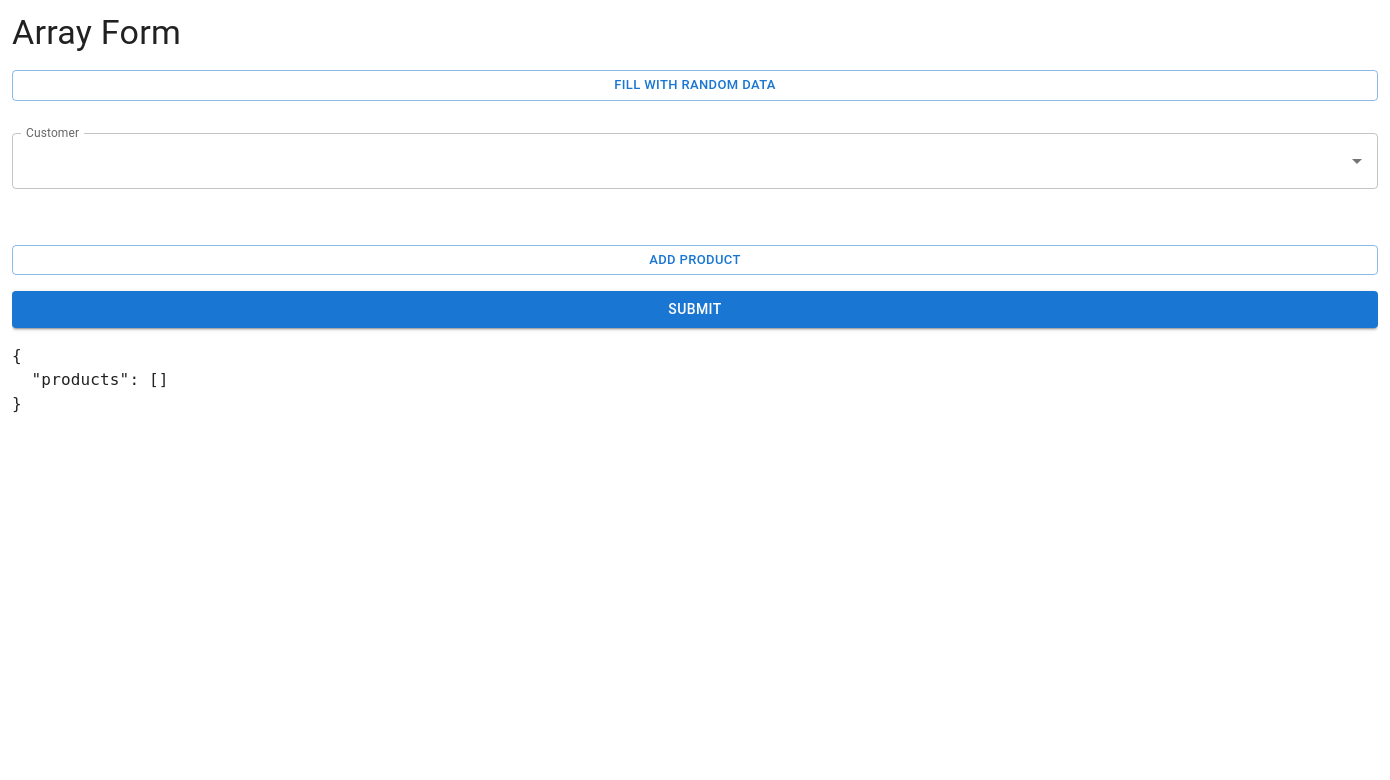
Test: Array form › add and remove product
This screenshot has width=1390, height=780.
# Add product
Click the button "Add Product" at (695, 260), box [12,245,1378,276]
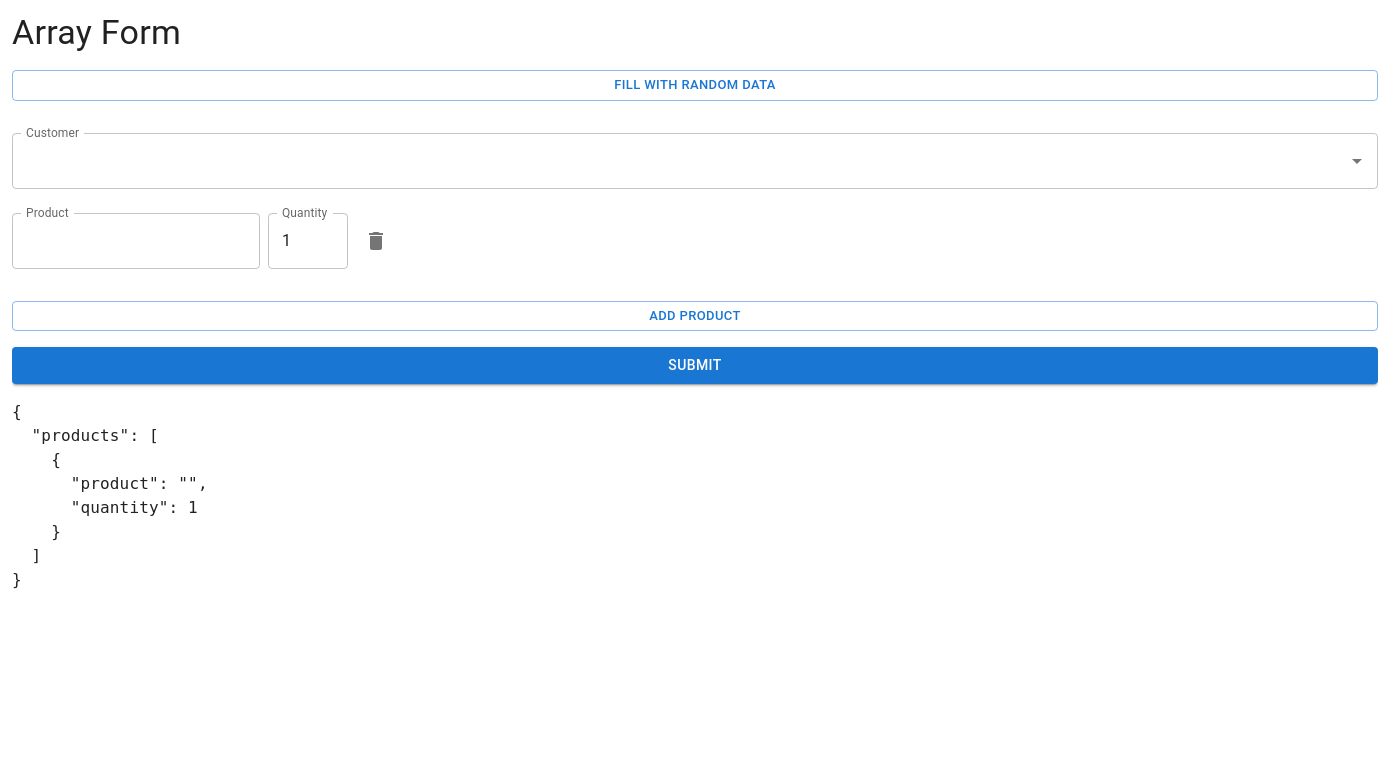
Now the list item is shown, box [12,205,396,269]
Now the field labelled "Product" is empty, box [12,213,246,269]
Now the number field labelled "Quantity" is shown
# Cannot set product quantity below 1
Click the number field labelled "Quantity" at (301, 241), box [268,213,334,269]
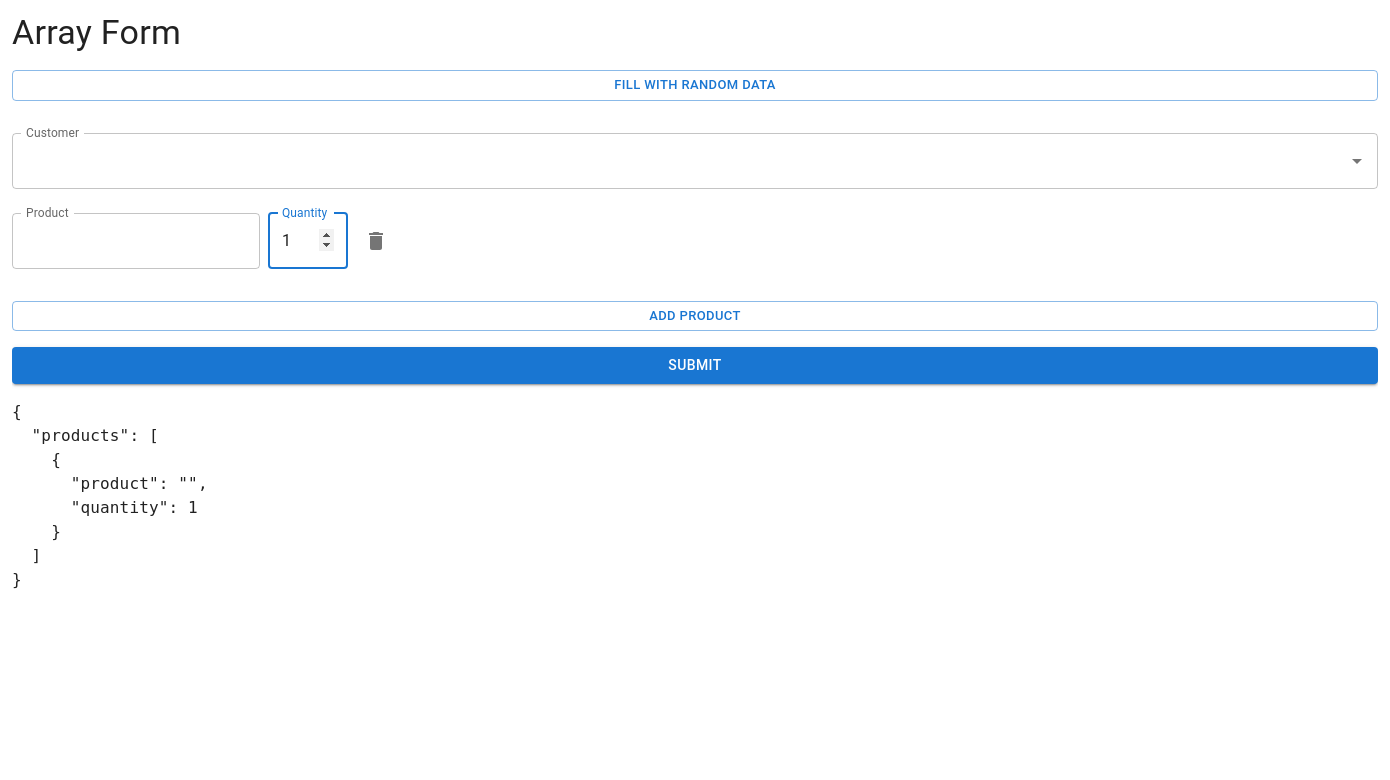
# Remove product
Click the button named "delete" at (376, 241), box [356,213,396,269]
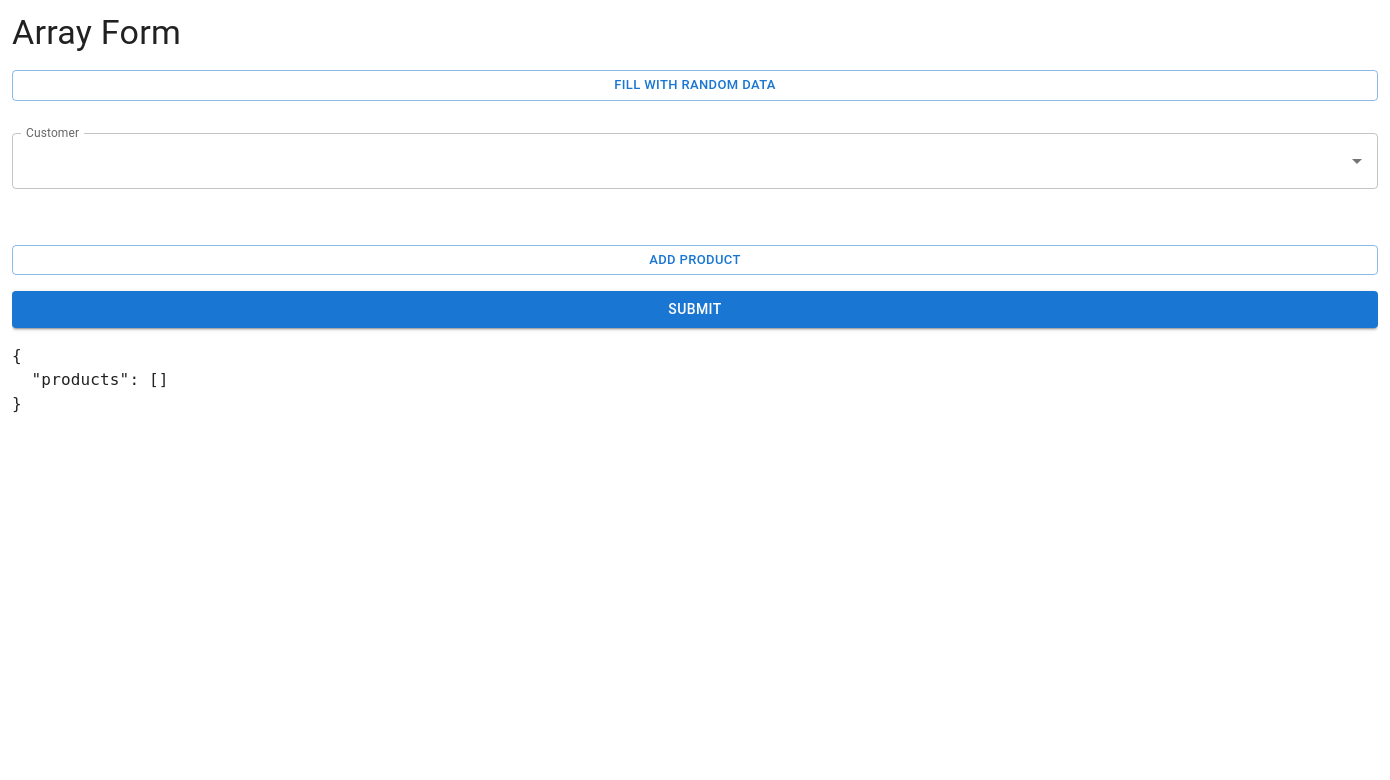
# Add two products
Click the button "Add Product" at (695, 260), box [12,245,1378,276]
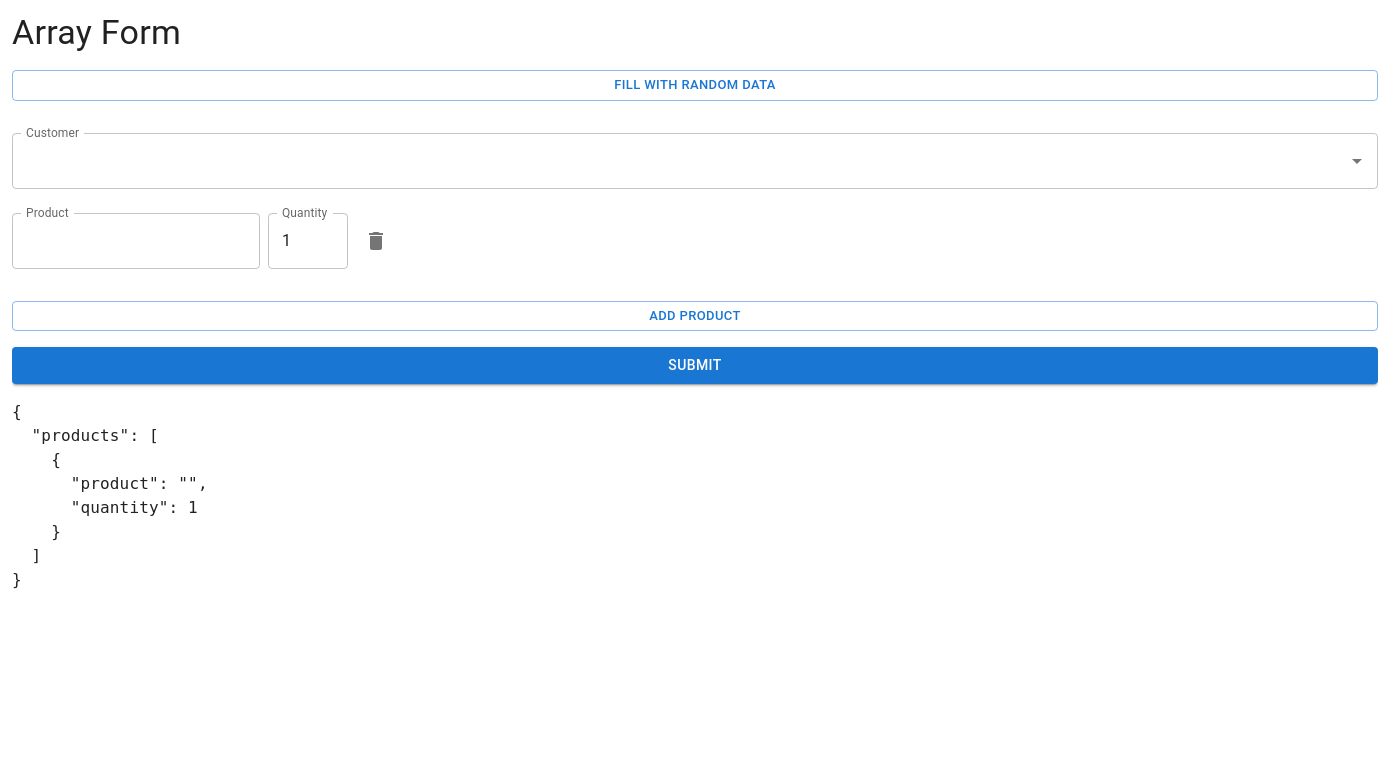
Click the button "Add Product" at (695, 316), box [12,301,1378,332]
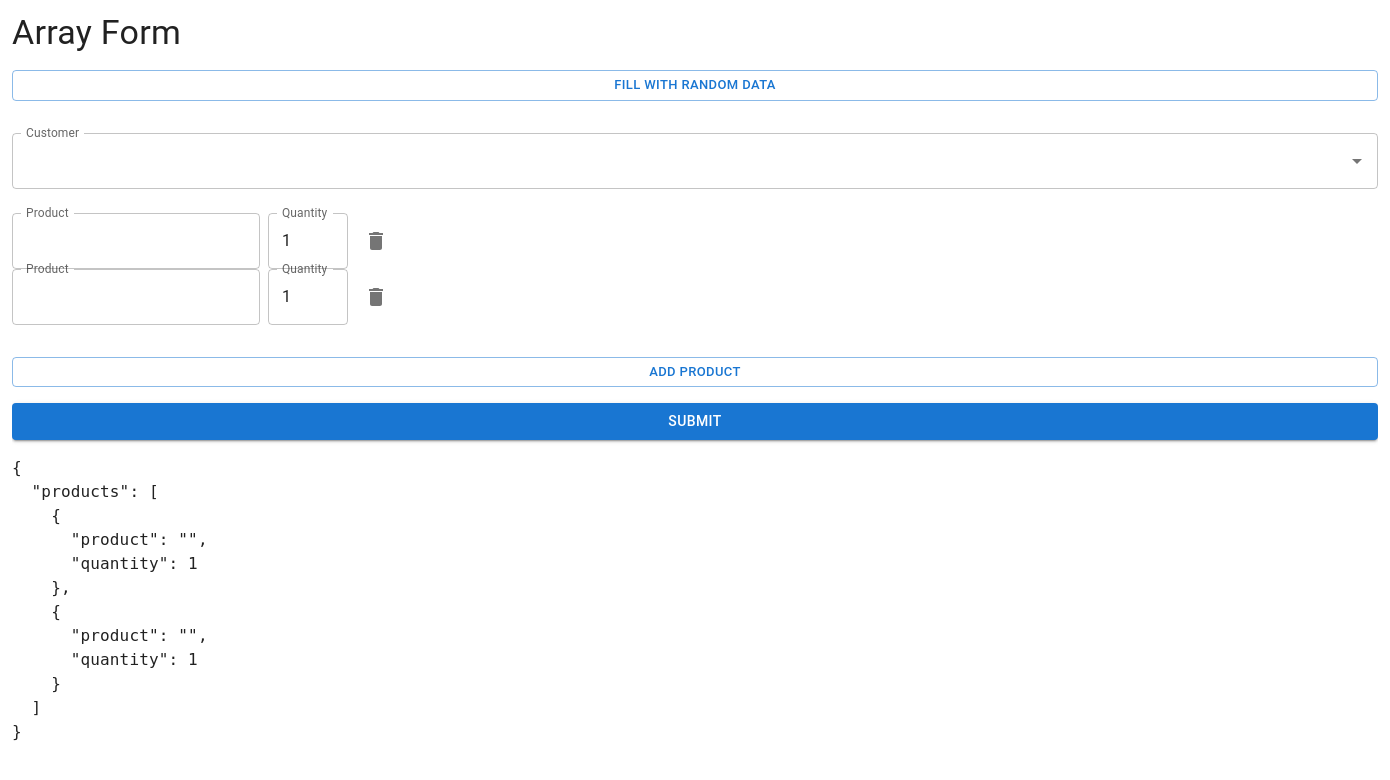
Now the field labelled "Product" is shown, box [12,213,246,269]
Now the number field labelled "Quantity" is shown, box [268,213,334,269]
Now the number of list items is 2, box [12,205,396,269]; [12,261,396,325]
